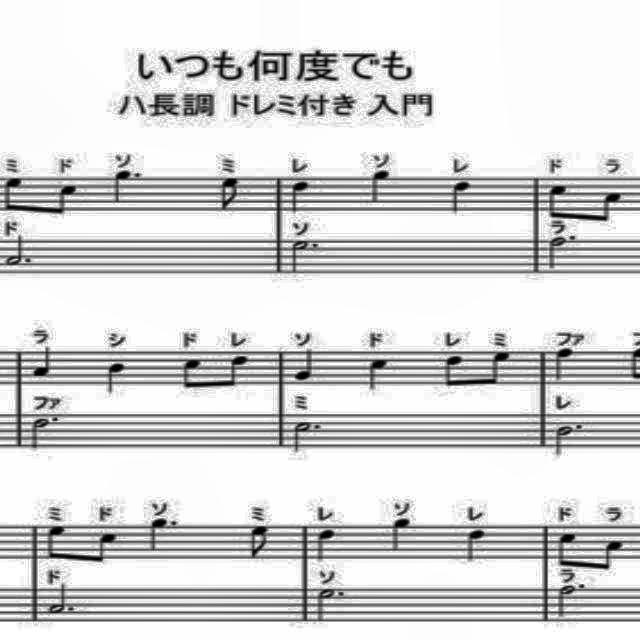Eighth-note: (216, 352, 252, 394), (1, 172, 35, 215), (592, 536, 626, 578), (546, 174, 574, 222), (51, 179, 80, 225), (242, 522, 274, 562), (596, 186, 626, 228), (44, 522, 72, 566), (552, 526, 580, 570), (91, 530, 121, 570), (178, 354, 204, 398), (486, 348, 514, 388), (440, 354, 464, 390)
Half-dot: (541, 234, 587, 274), (27, 411, 65, 454), (287, 235, 323, 278), (553, 419, 587, 457), (4, 232, 36, 272), (292, 418, 324, 457), (314, 588, 346, 624), (556, 582, 586, 620), (48, 581, 76, 619), (218, 174, 242, 212)
Quarter-dot: (144, 516, 180, 556), (111, 168, 145, 204)
Quarter-note: (361, 352, 395, 392), (547, 342, 577, 386), (387, 516, 418, 558), (312, 525, 343, 563), (462, 528, 491, 566), (367, 170, 398, 204), (448, 176, 474, 216), (30, 344, 58, 381), (104, 358, 128, 398), (294, 347, 320, 383), (288, 177, 312, 215)
